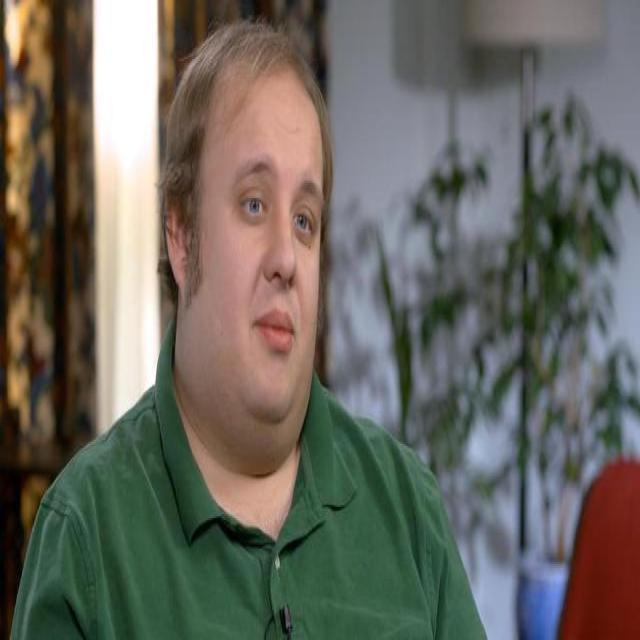human: (10, 17, 497, 640)
